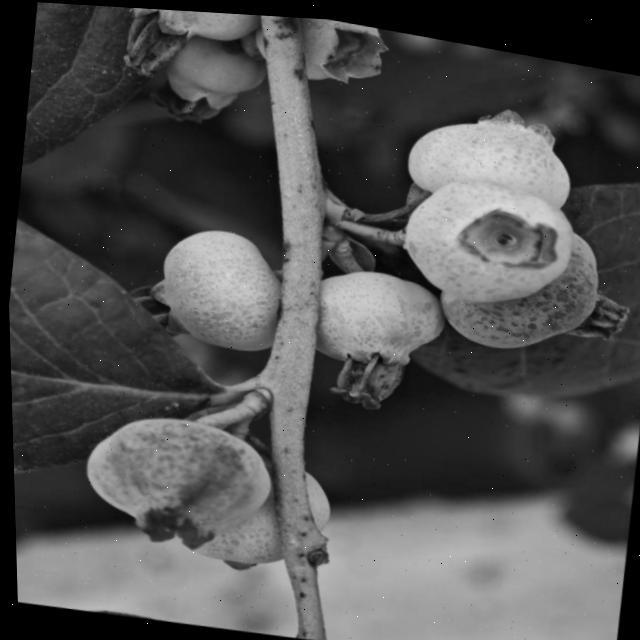Semi-RipeBlueBerry: (68, 386, 277, 555)
UnripeBlueBerry: (379, 158, 583, 311), (384, 90, 579, 229), (142, 206, 288, 361)
